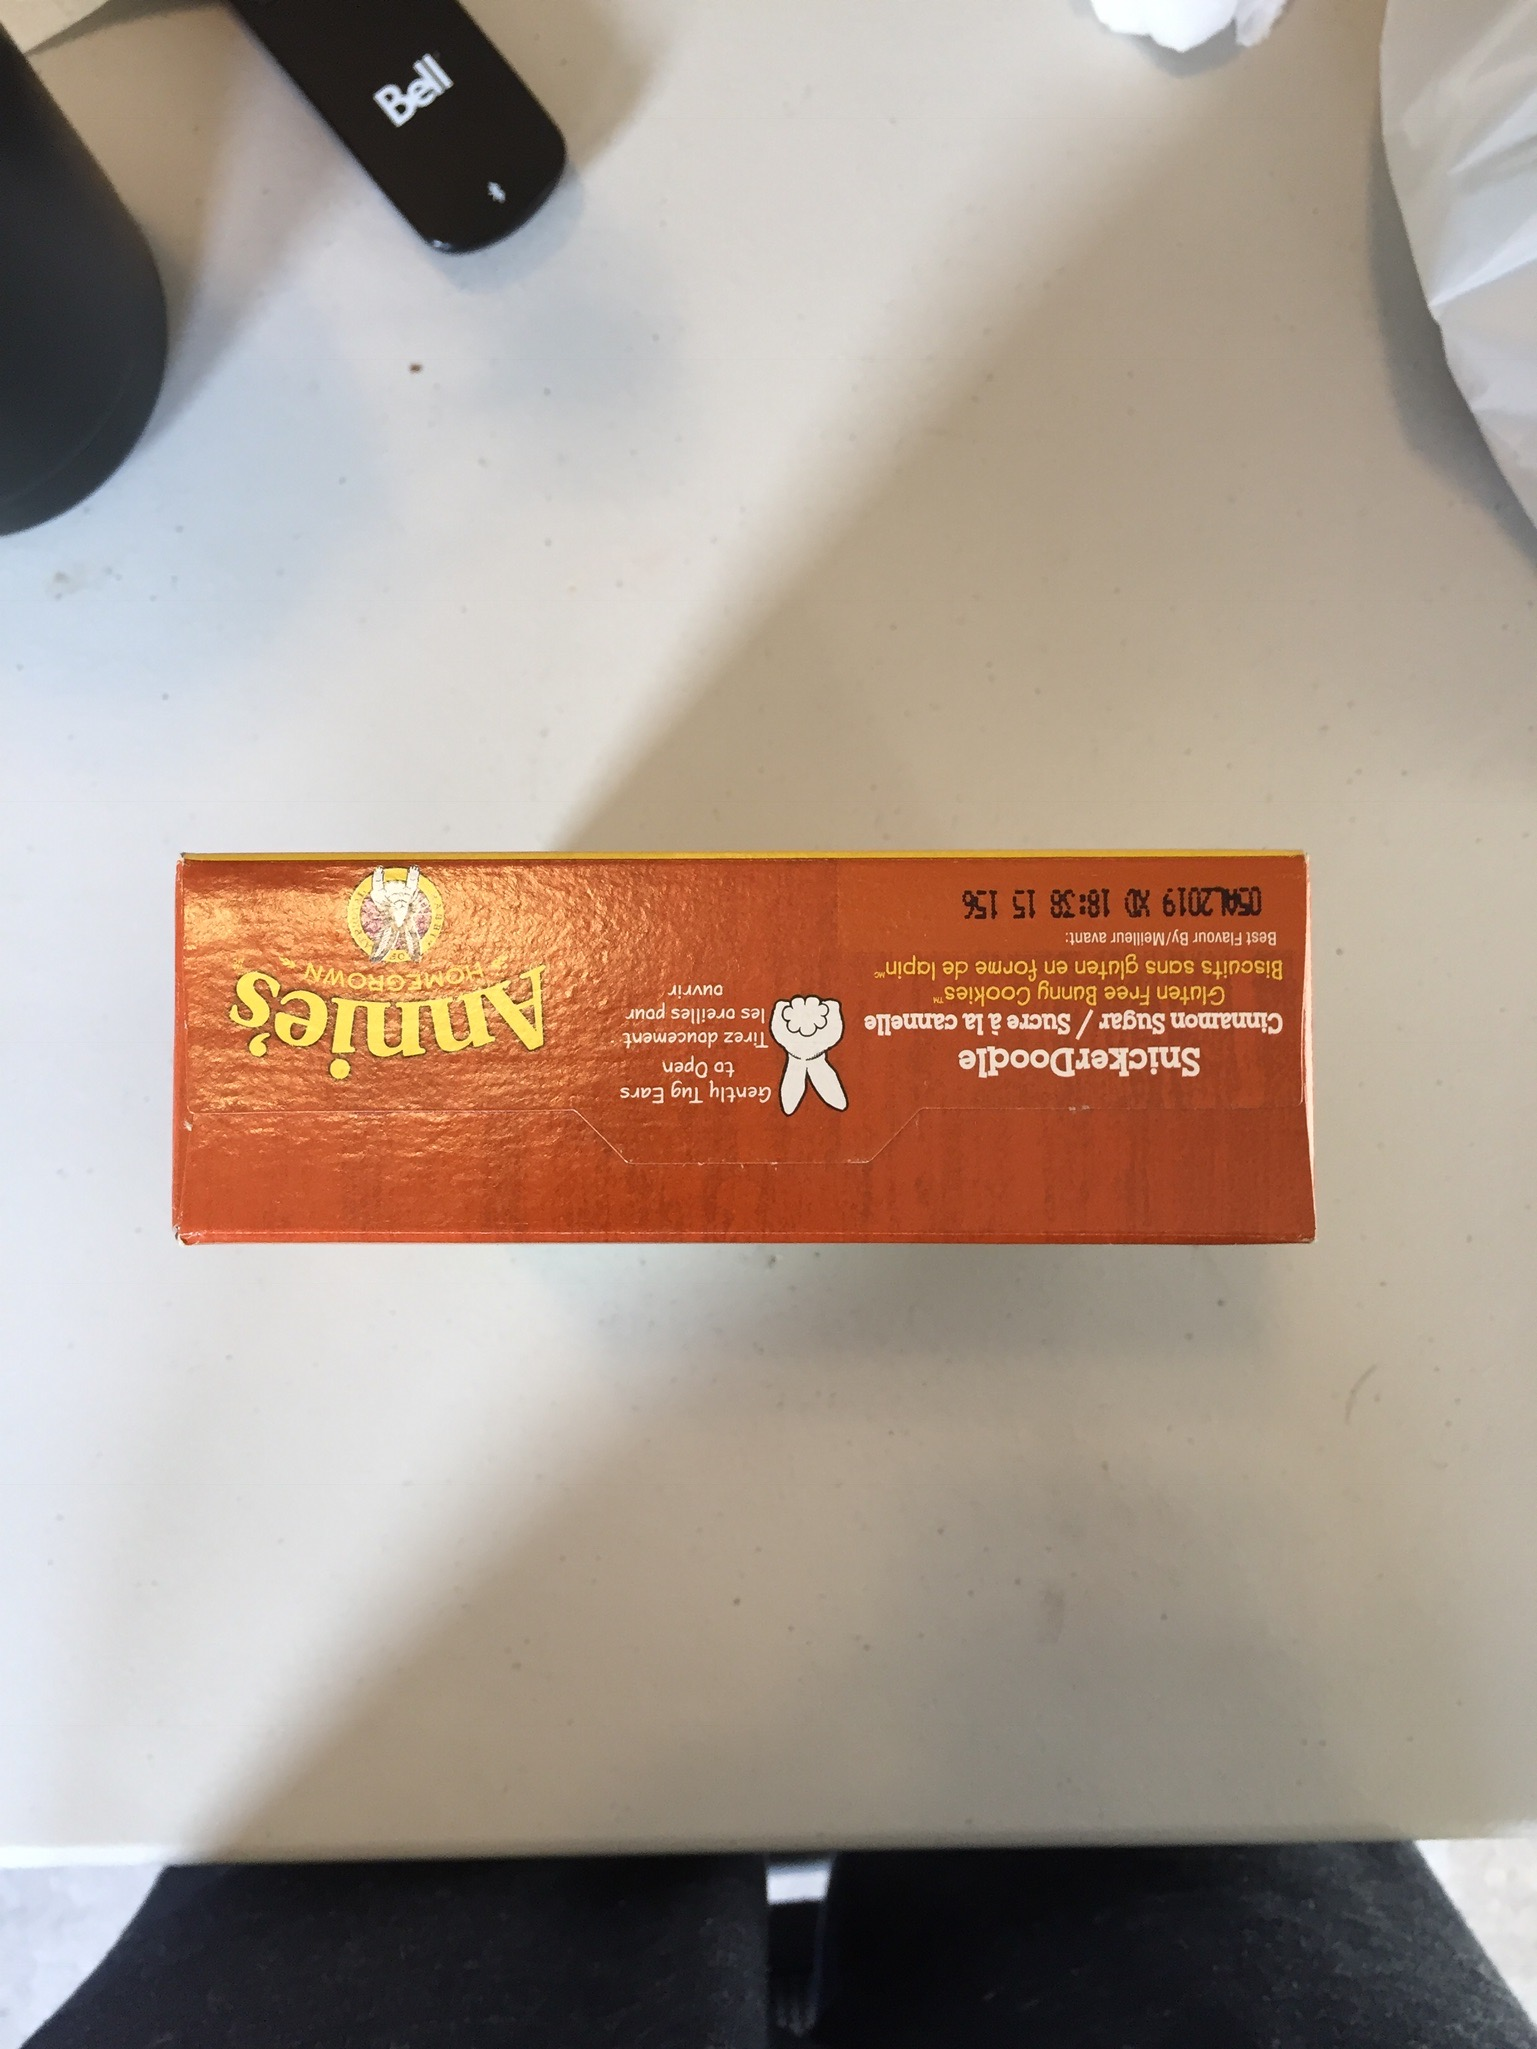annies_snickerdoodle_cinnamon_sugar: (191, 865, 1300, 1243)
